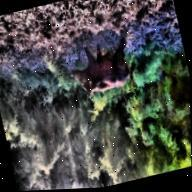boar: (65, 34, 136, 101)
